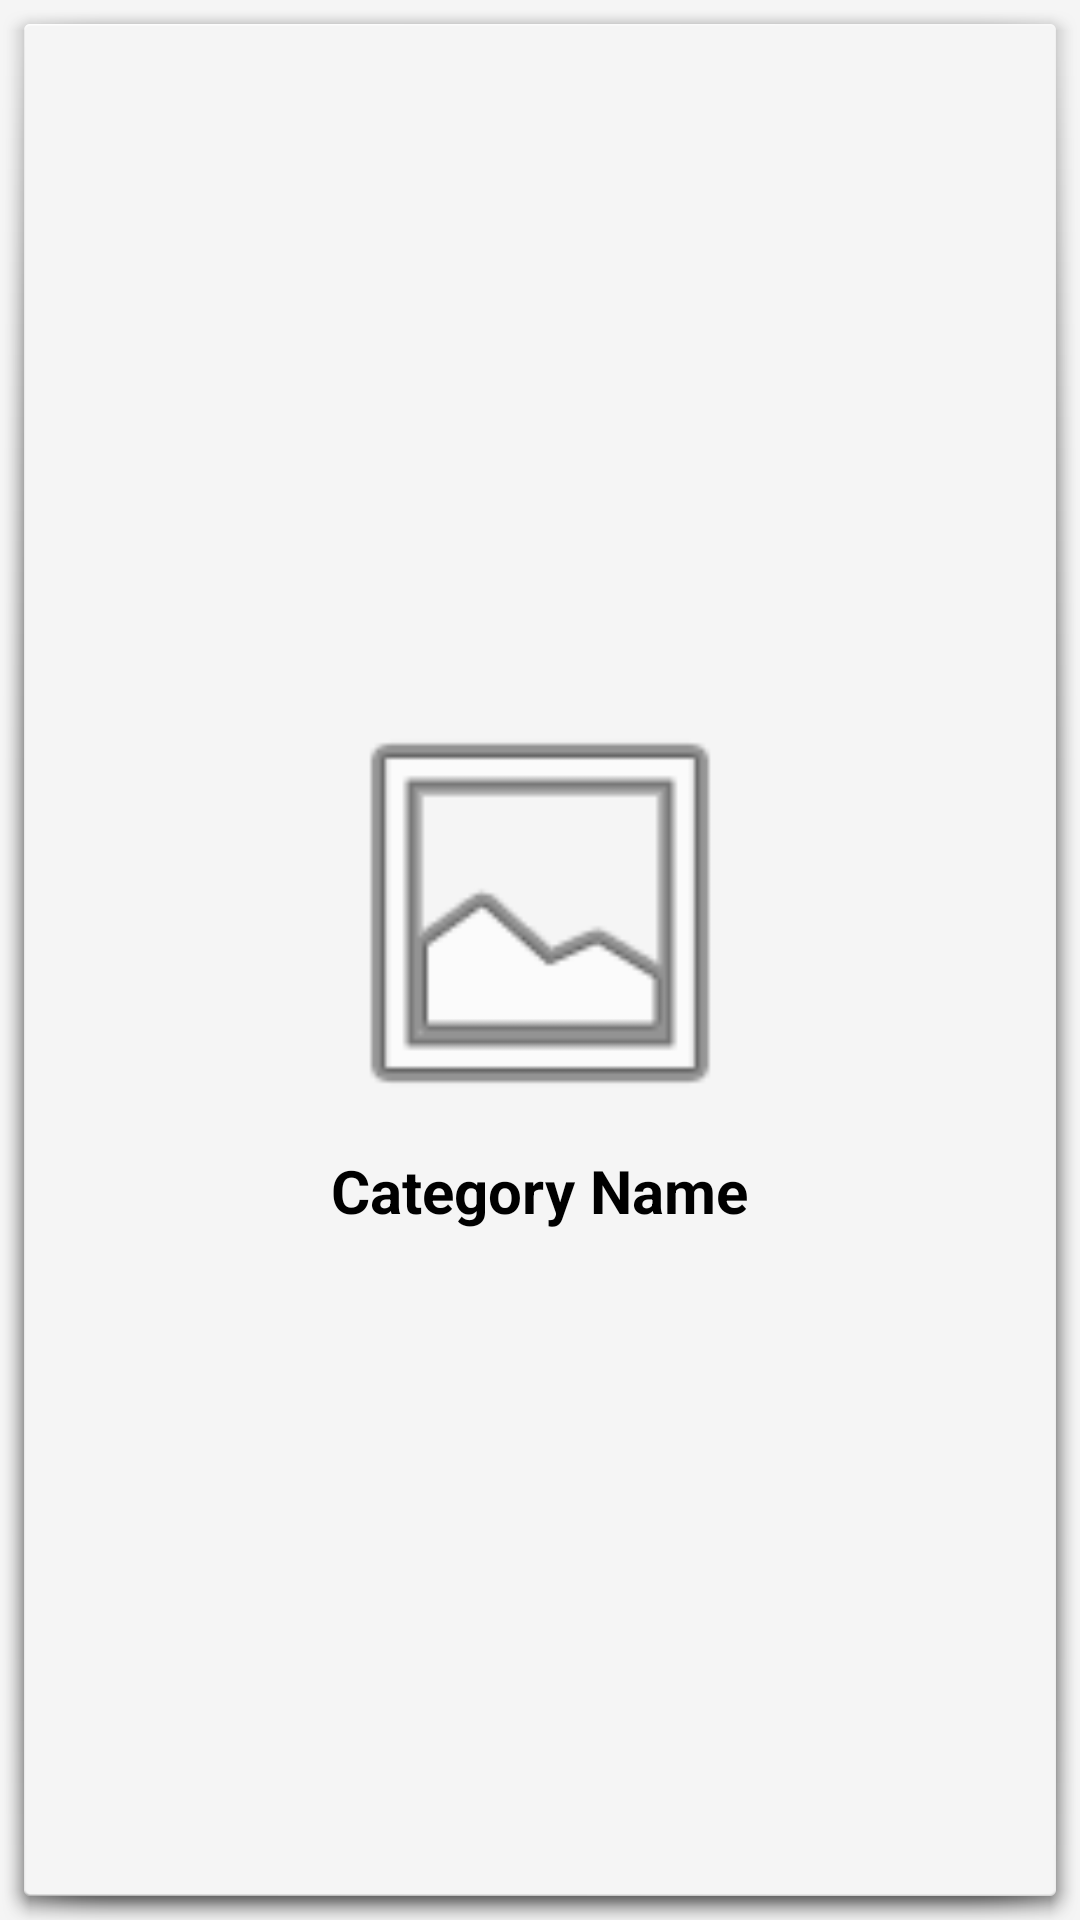

Locate icon controls on the screen. Image size 1080px×1920px, boxes as (x1, y1, x2, y2).
gallery: (370, 743, 710, 1083)
